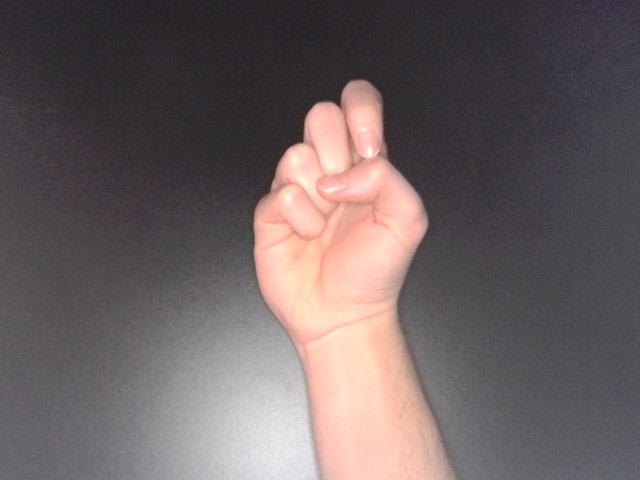s: (246, 75, 435, 358)
